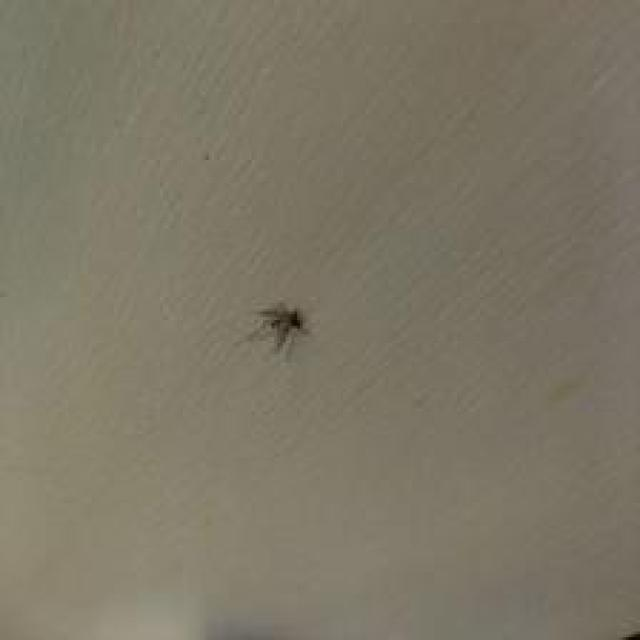Culex: (252, 301, 308, 356)
